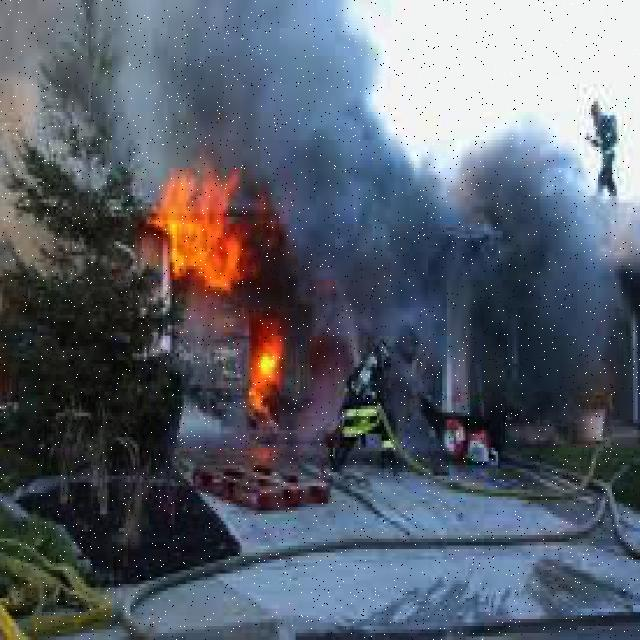fire: (162, 162, 242, 284), (252, 322, 292, 428)
smoke: (250, 17, 624, 344)
